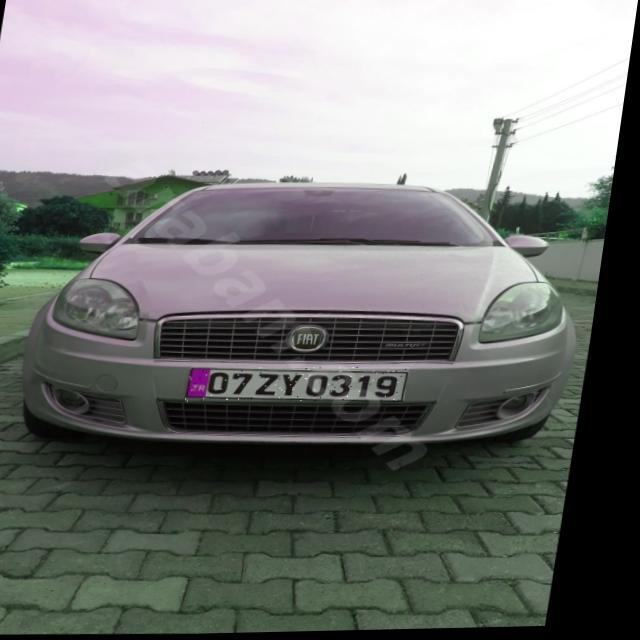license_plate: (196, 365, 420, 407)
